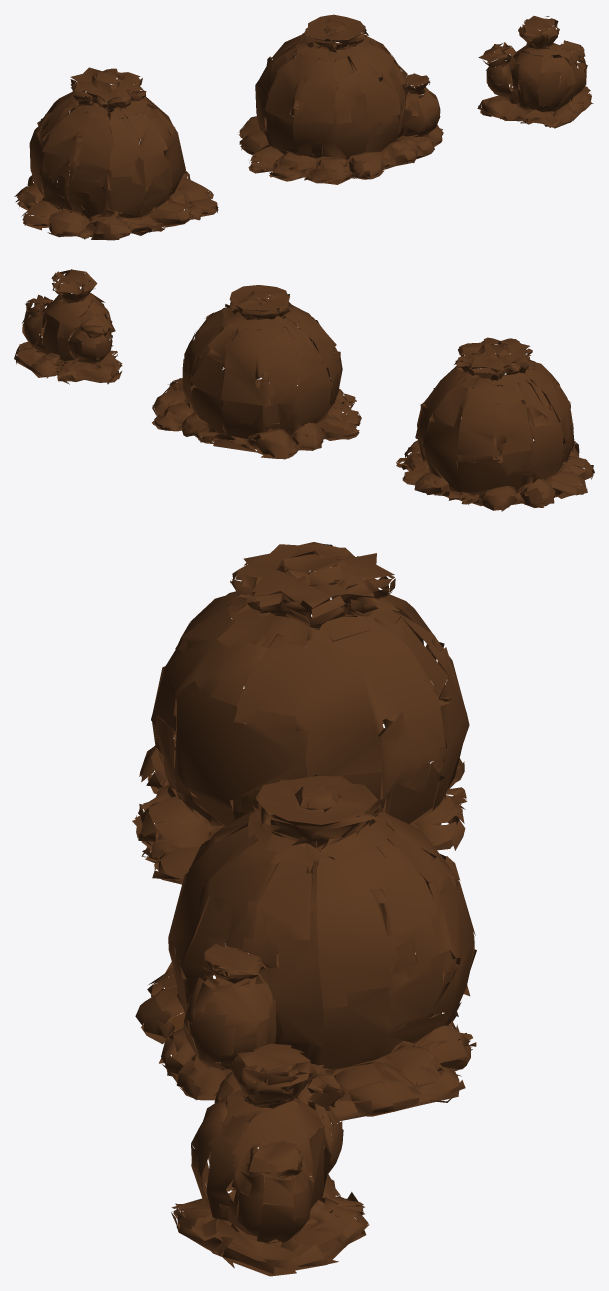
Rendered from planta_de_cactus_2.glb.
3 views of the same model, one above another, from view 1: azimuth 30°, elevation 25°; view 2: azimuth 150°, elevation 25°; view 3: azimuth 270°, elevation 25° (orthographic). The views are drawn at different scales.
Parts seen in each view (by area): view 1: planta_de_cactus_2; view 2: planta_de_cactus_2; view 3: planta_de_cactus_2.
Boxes of the visible parts, x1=… form: planta_de_cactus_2: x1=14, y1=14, x2=593, y2=240; planta_de_cactus_2: x1=14, y1=269, x2=594, y2=511; planta_de_cactus_2: x1=132, y1=542, x2=476, y2=1276.
Bounding box in the file's own units: 0.8012 × 0.1772 × 0.2135.
1 material, 1 textured.
